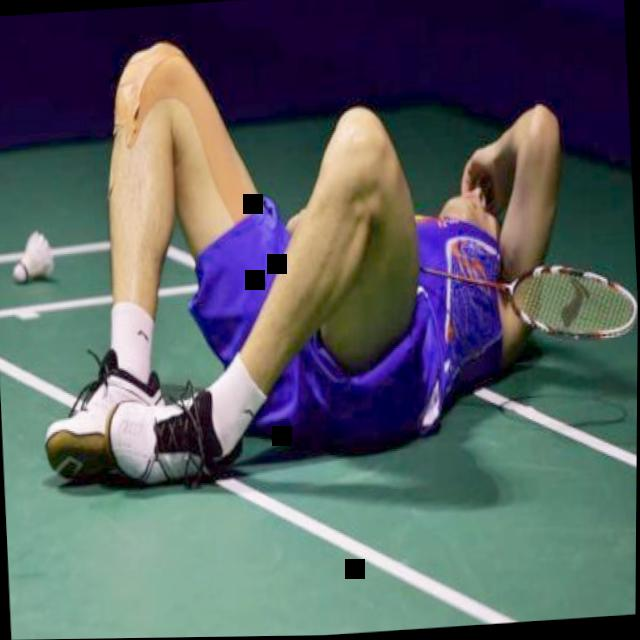Fall-Detected: (15, 0, 611, 508)
